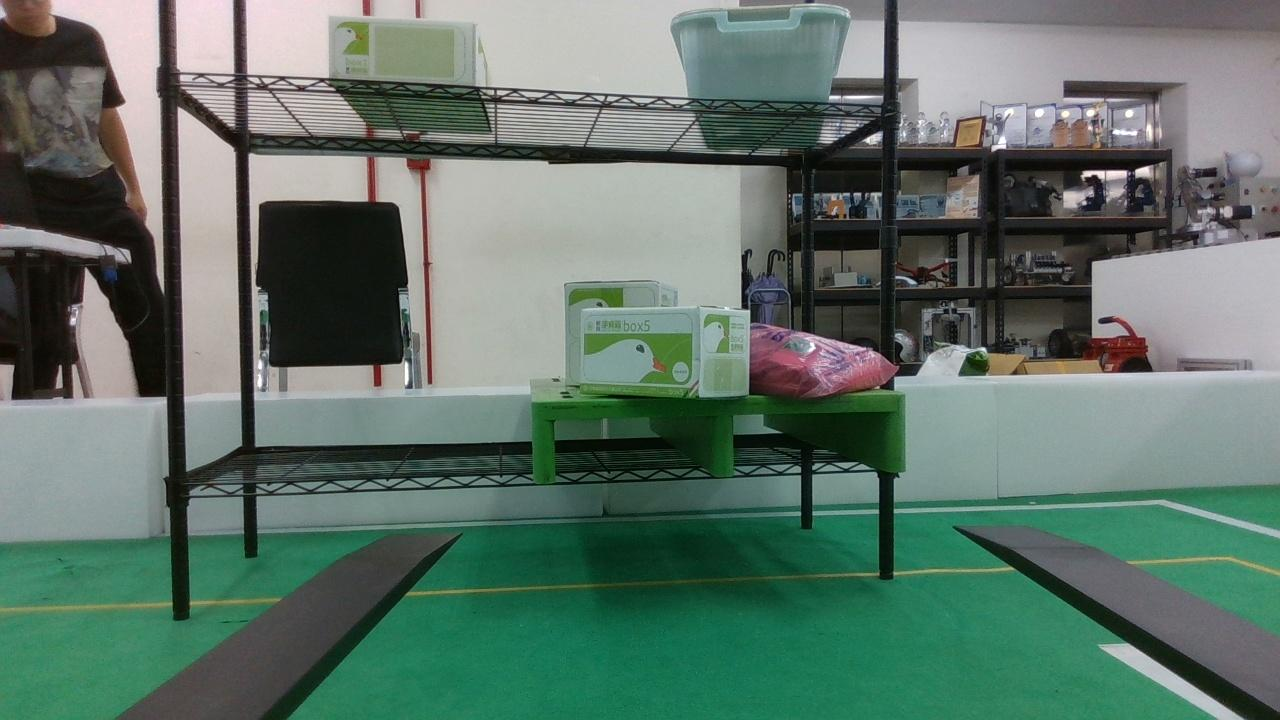Pallet: (533, 391, 907, 488)
